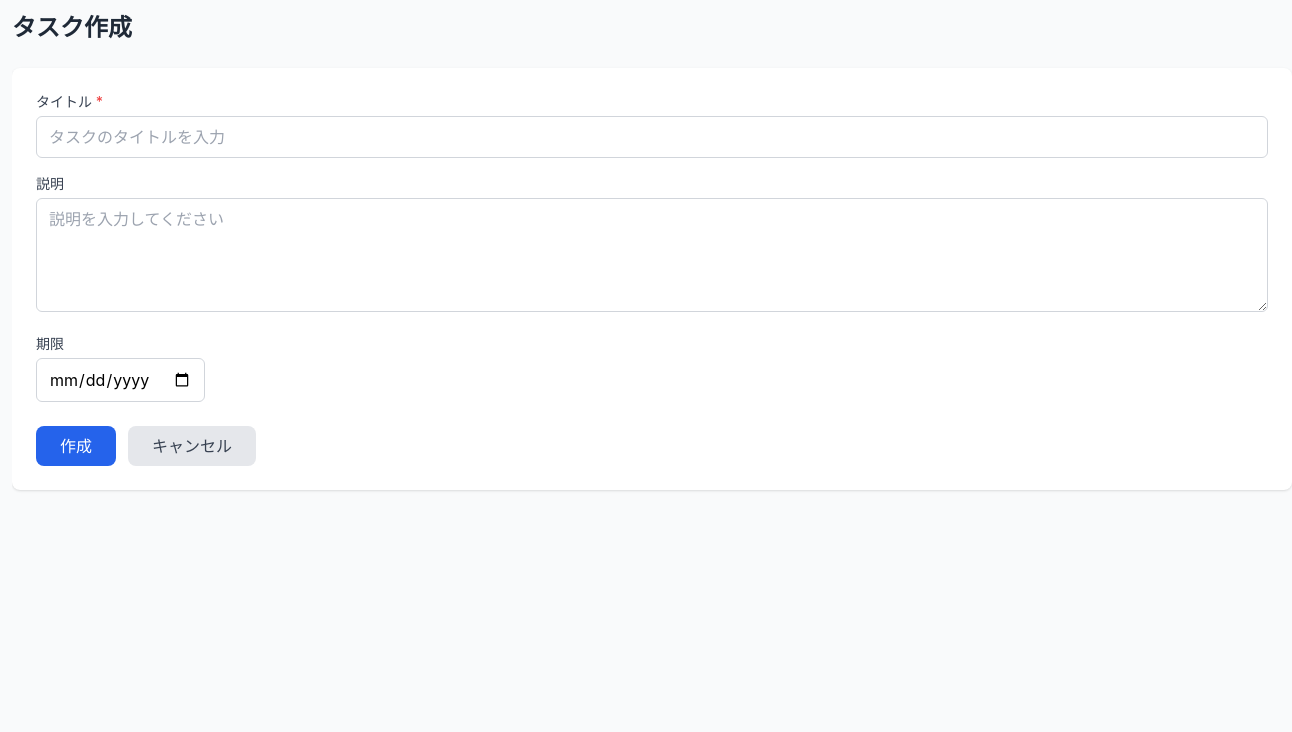
Test case: TaskCreate › タイトル未入力で送信するとバリデーションエラーが表示される
This screenshot has width=1292, height=732.
Step 1. Click the button "作成" → [76, 446], box [36, 426, 116, 466]
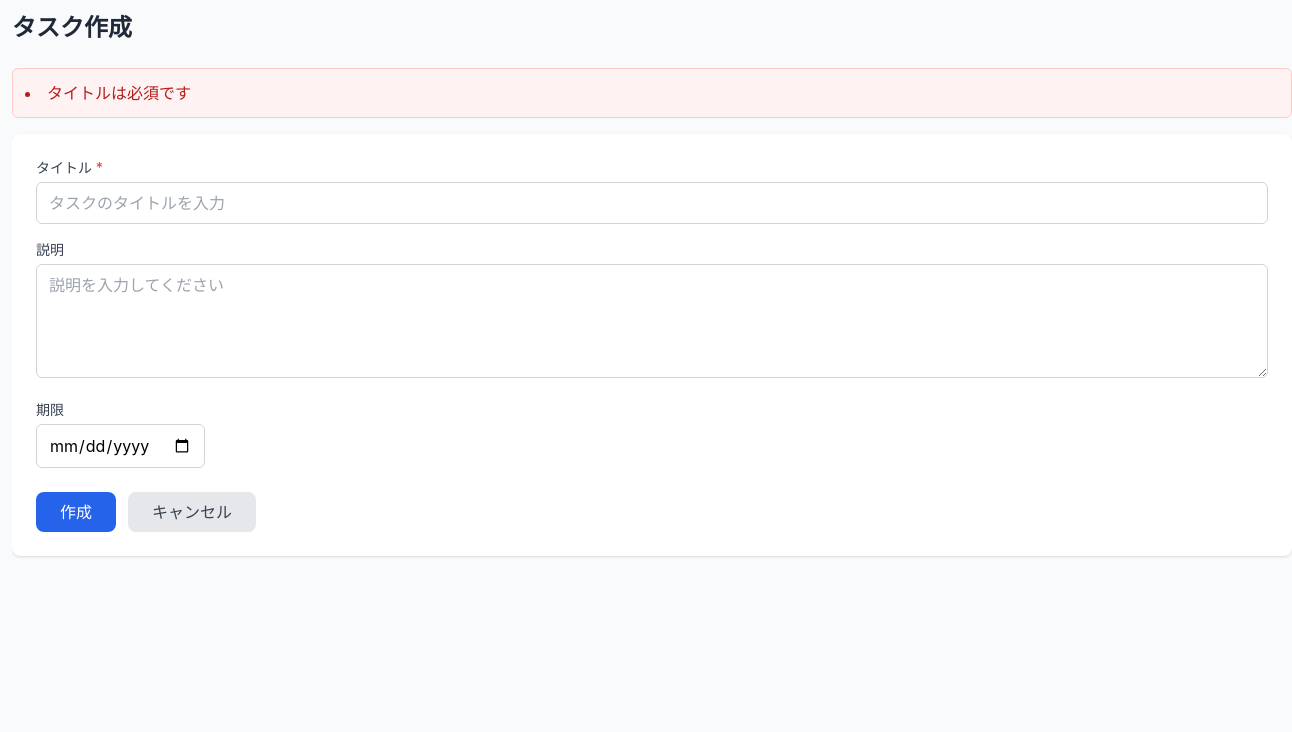
Expected: the list item "タイトルは必須です" is shown, [47, 83, 191, 103]
